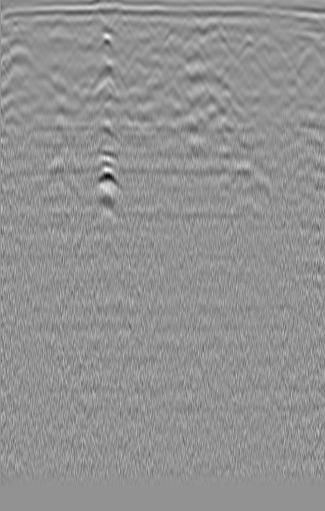가스: (90, 160, 121, 189)
상수: (3, 41, 41, 77)
오수: (289, 39, 323, 71)
우수: (153, 25, 185, 51)
